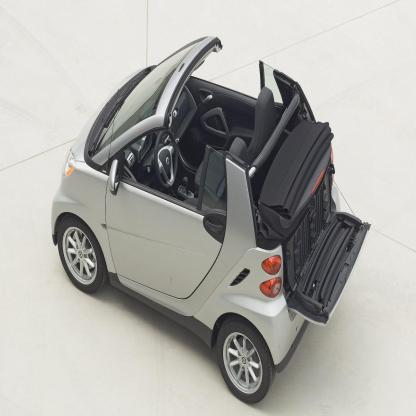Vehicle: (51, 35, 373, 404)
